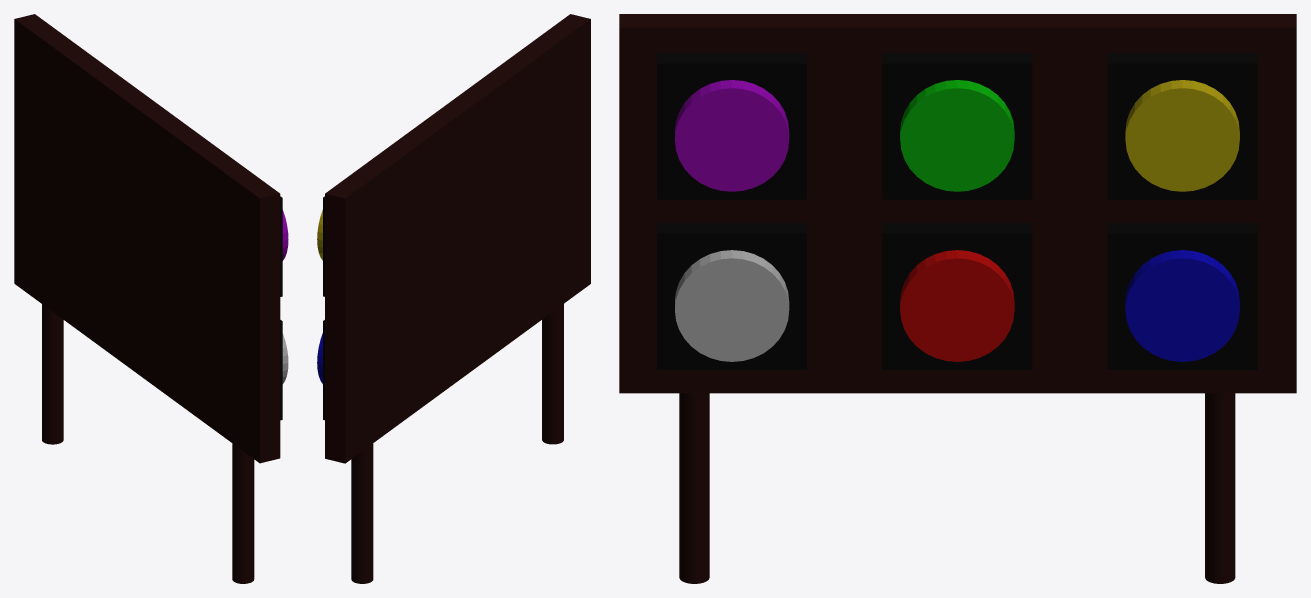
File: tableau.obj
3 views of the same model, side by side, from view 1: azimuth 30°, elevation 25°; view 2: azimuth 150°, elevation 25°; view 3: azimuth 270°, elevation 25° (orthographic). The views are drawn at different scales.
Visible parts, largest first — view 1: Cube; view 2: Cube; view 3: Cube.
Boxes of the visible parts, box(x1,y1,x2,y2) form: Cube: box(14, 14, 288, 583); Cube: box(317, 14, 590, 583); Cube: box(619, 14, 1296, 583).
Bounding box in the file's own units: 1.03 × 8.18 × 9.02.
